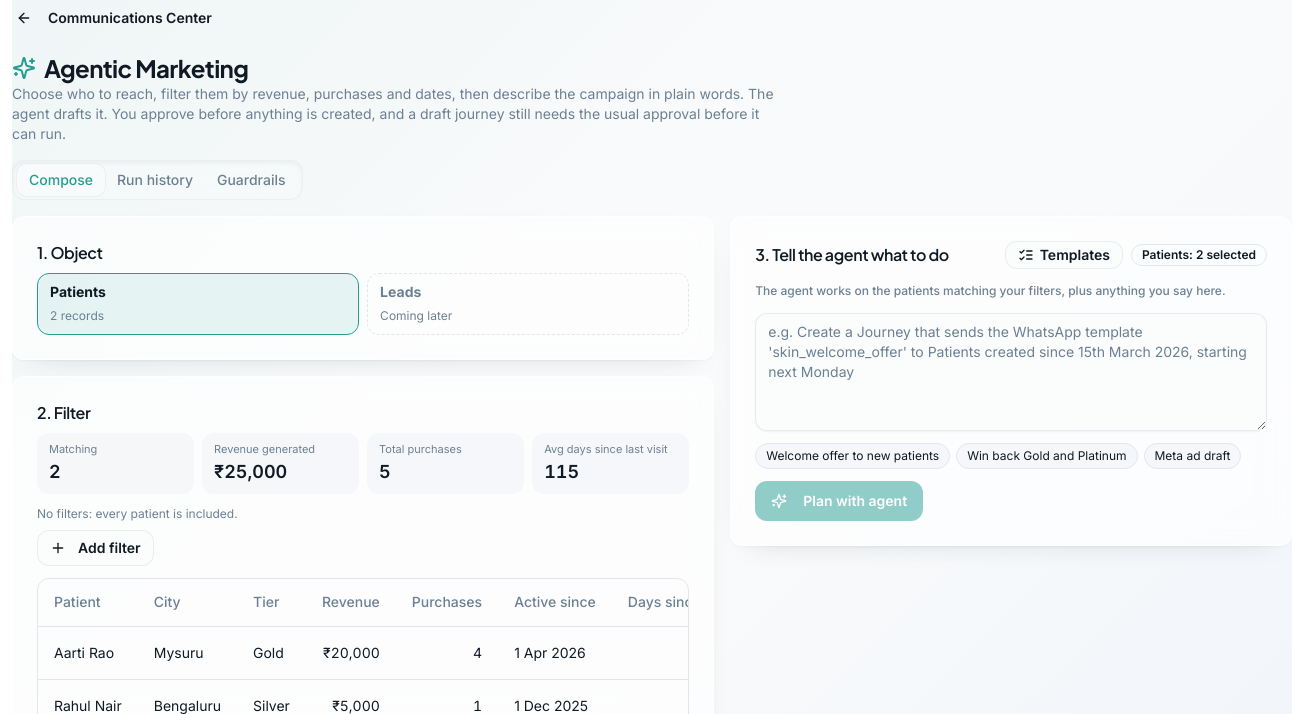
Test: AgenticMarketing › shows patient metrics and filters them
expect the text "₹25,000" is shown: met, box [214,460,287,482]
expect the text "Aarti Rao" is shown: met, box [38,626,138,680]
Click the button "Add filter": [95, 548] box [37,530,154,566]
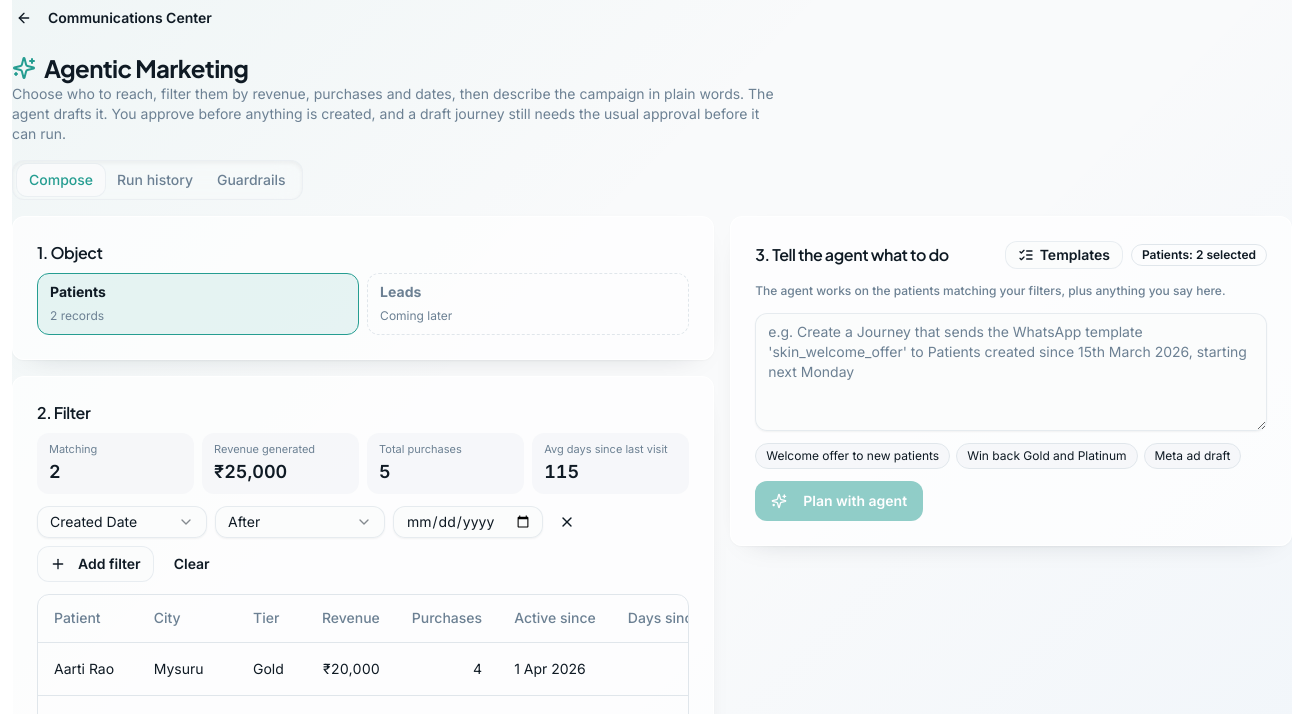
expect the text "No filters: every patient" is gone: met
